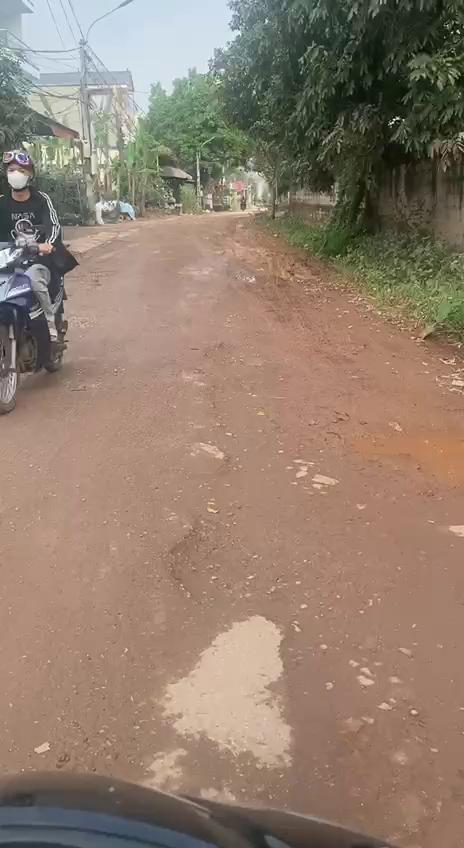pothole: (160, 503, 298, 606), (332, 415, 464, 499)
